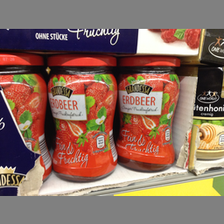jam: (48, 54, 119, 182), (117, 57, 182, 172), (1, 53, 51, 181)
